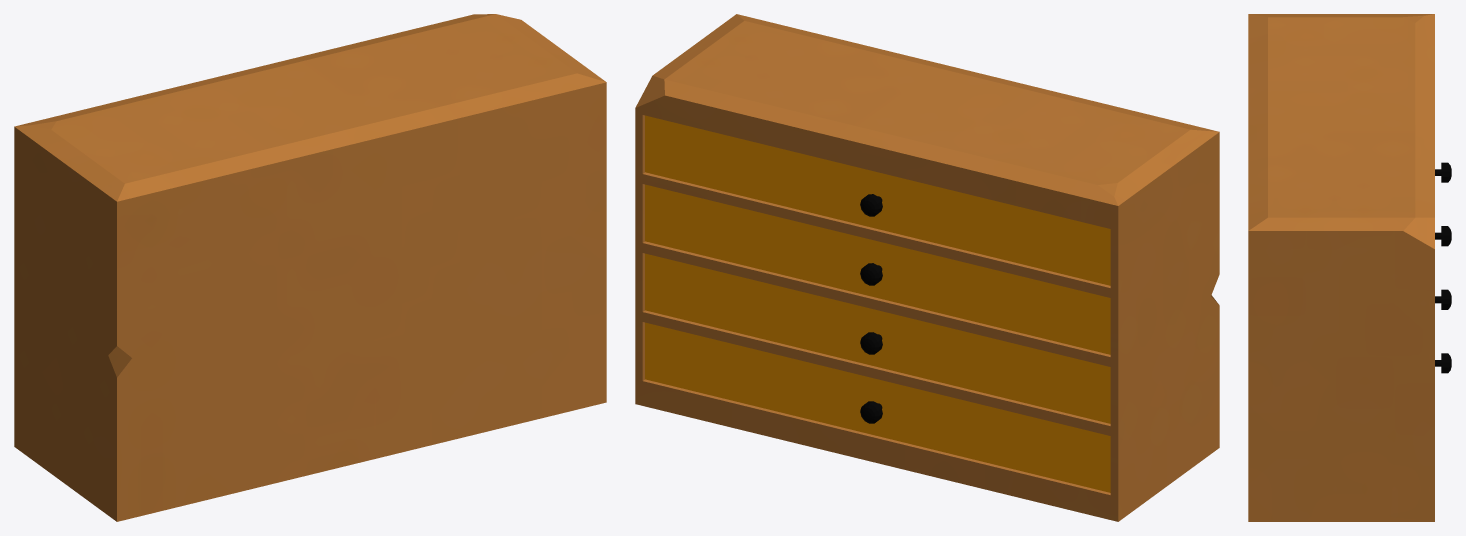
File: Drawer.fbx
3 renders of one model, left to right at view 1: azimuth 30°, elevation 25°; view 2: azimuth 150°, elevation 25°; view 3: azimuth 270°, elevation 25°, orthographic. The views are drawn at different scales.
Parts seen in each view (by area): view 1: Drawer; view 2: Drawer; view 3: Drawer.
Boxes of the visible parts, left/top/right/bottom form: Drawer: left=14, top=14, right=606, bottom=521; Drawer: left=635, top=14, right=1219, bottom=521; Drawer: left=1248, top=14, right=1451, bottom=521.
Size of the model in its own units: 93.78 by 59.61 by 37.15.
